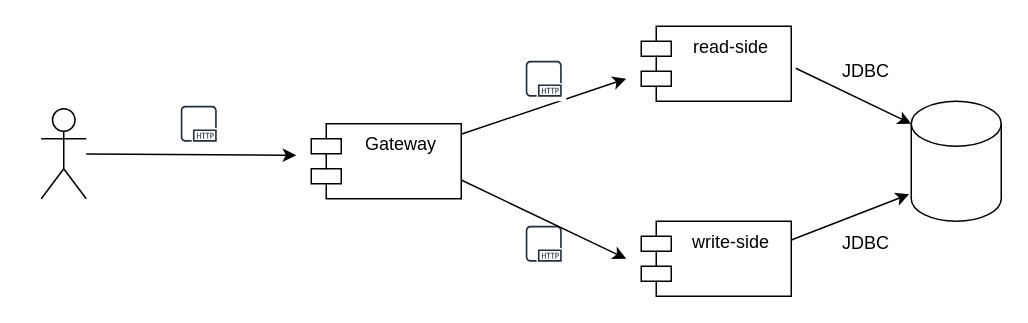
The diagram is 1028 pixels wide and 323 high, and some of its shapes have lost their labels. The box of each missing label's shape, as (x1, y1, x2, y2) in pixels:
API client: (40, 107, 86, 199)
PostreSQL: (910, 100, 1001, 221)
